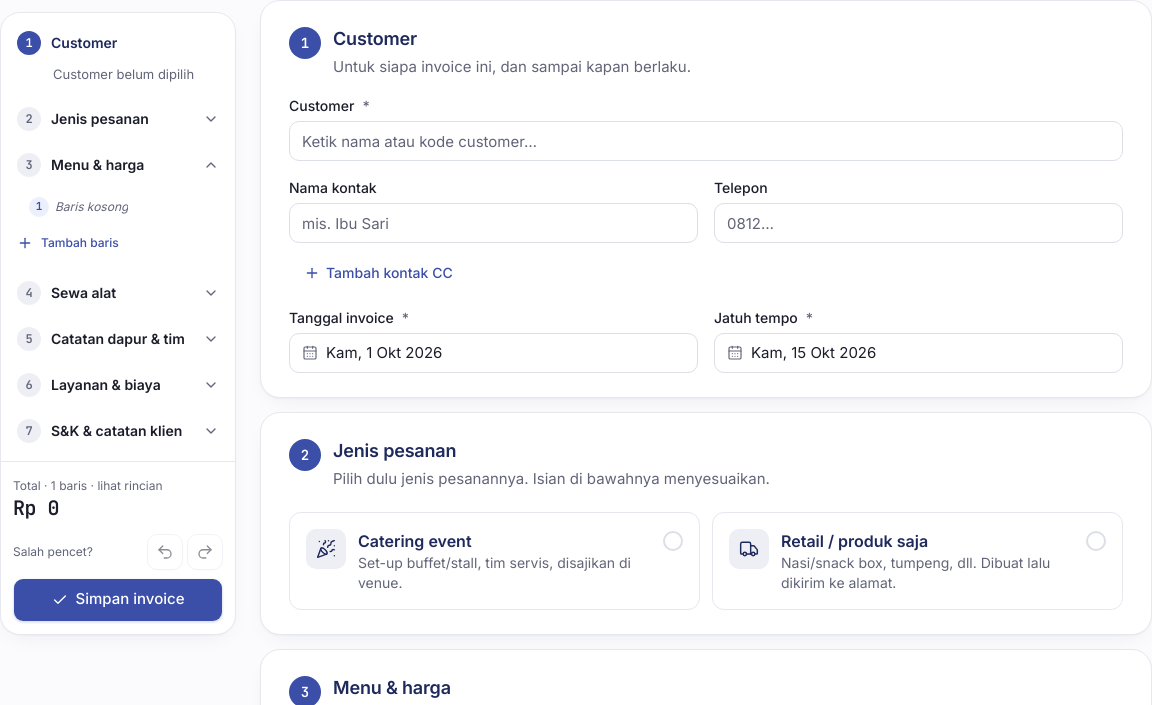
Test case: FormDokumen — memilih customer › mengosongkan kontak kalau customer barunya tidak punya PIC
Type "House of Sekar" into the dropdown labelled "Customer *". click: (706, 141)
box: [289,121,1123,161]
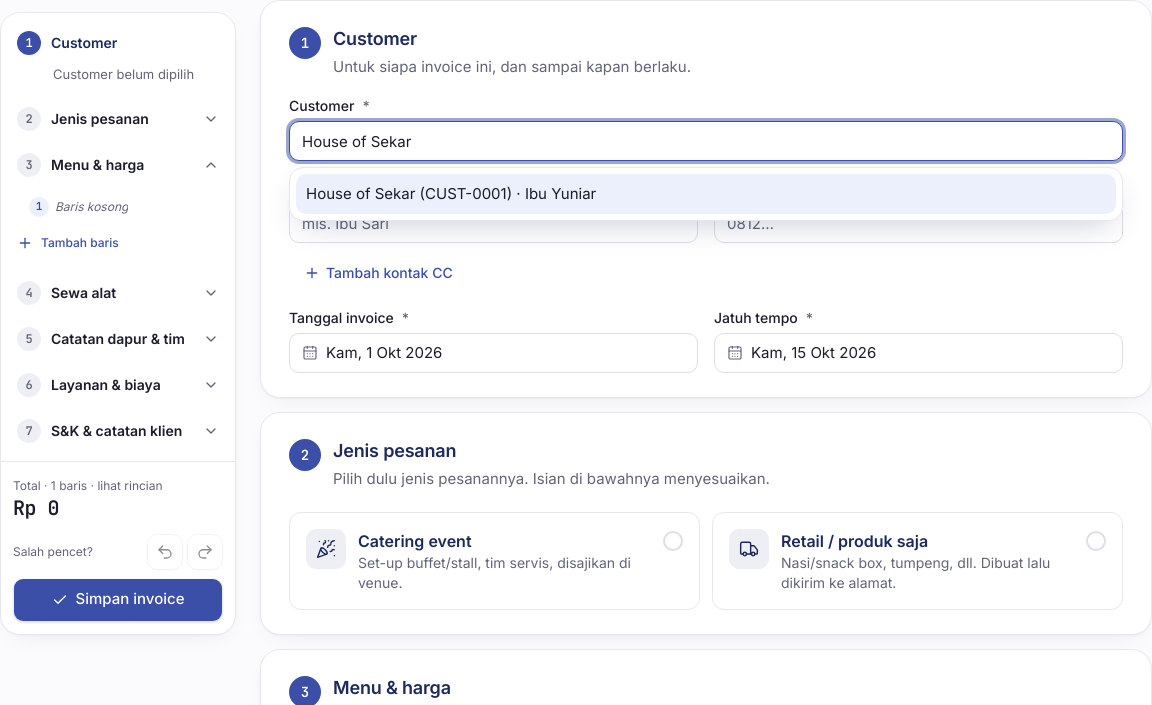
Click the button "House of Sekar (CUST-0001) · Ibu Yuniar". click: (451, 194)
box: [296,174,1116,214]
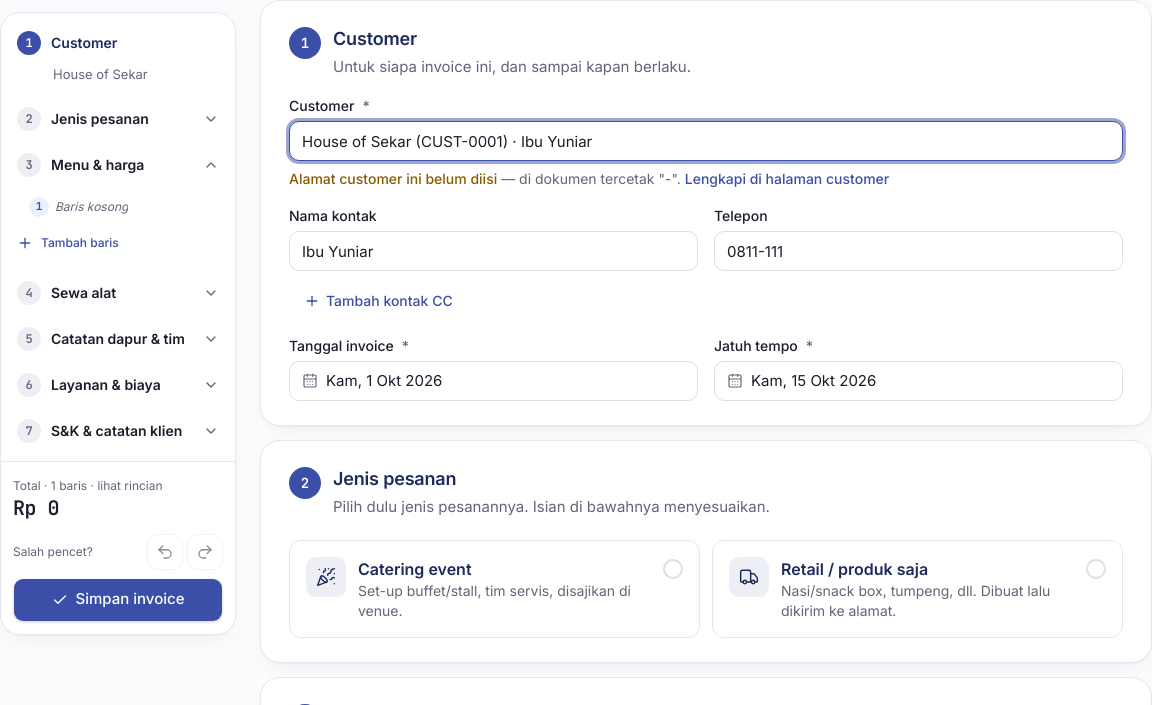
Type "Tanpa PIC" into the dropdown labelled "Customer *". click: (706, 141)
box: [289,121,1123,161]
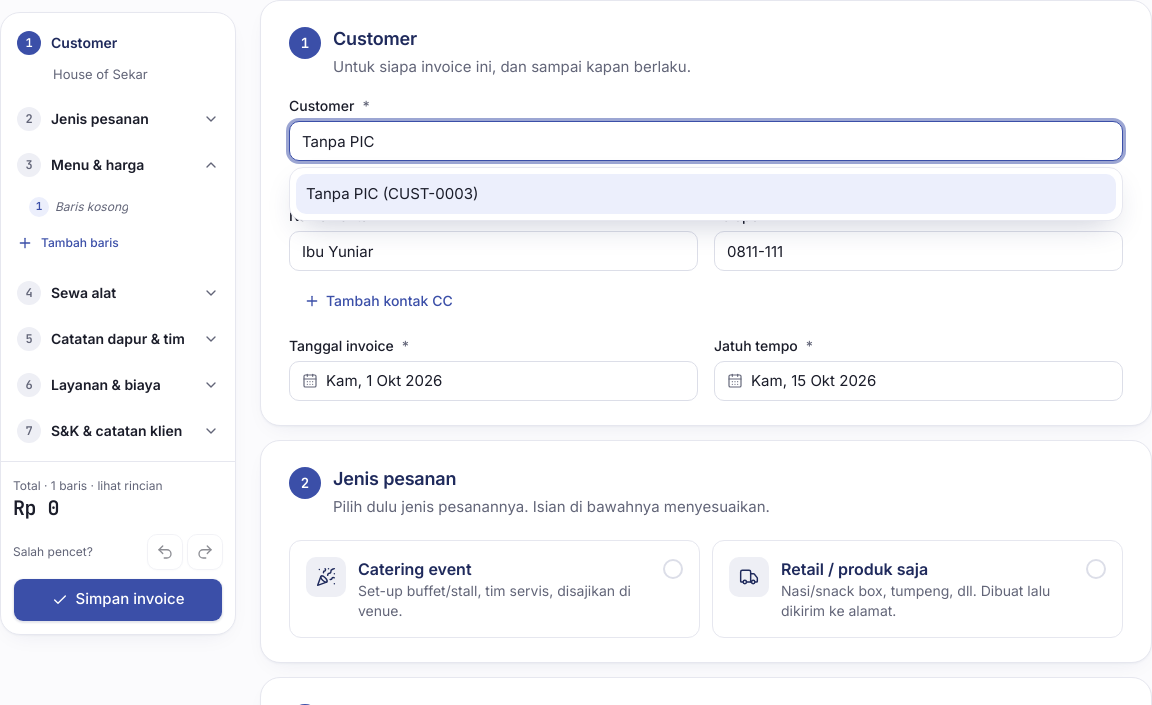
Click the button "Tanpa PIC (CUST-0003)". click: (392, 194)
box: [296,174,1116,214]
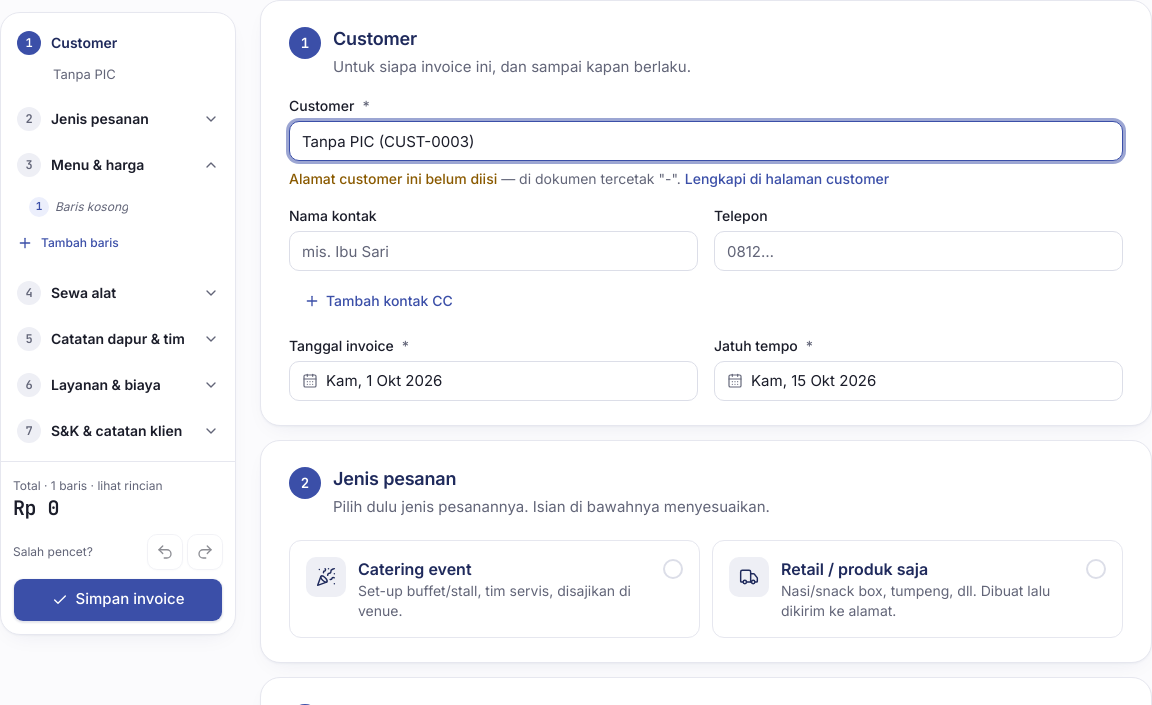
Now the field labelled "Nama kontak" is empty, box [289,231,698,271]
Now the field labelled "Telepon" is empty, box [714,231,1123,271]
